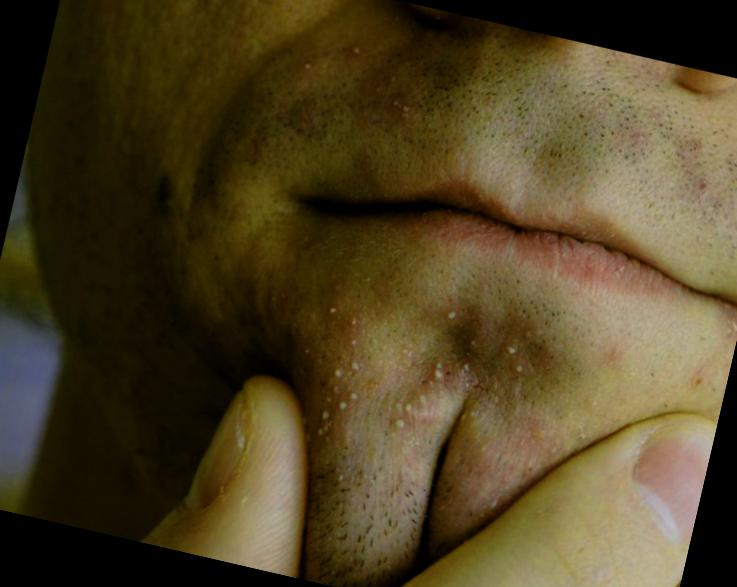Acne: (148, 162, 178, 217), (311, 394, 345, 432), (324, 296, 362, 328), (384, 412, 408, 436), (326, 364, 348, 384), (427, 359, 445, 383), (582, 386, 600, 409), (438, 302, 457, 322), (346, 38, 362, 56), (503, 338, 516, 353)
